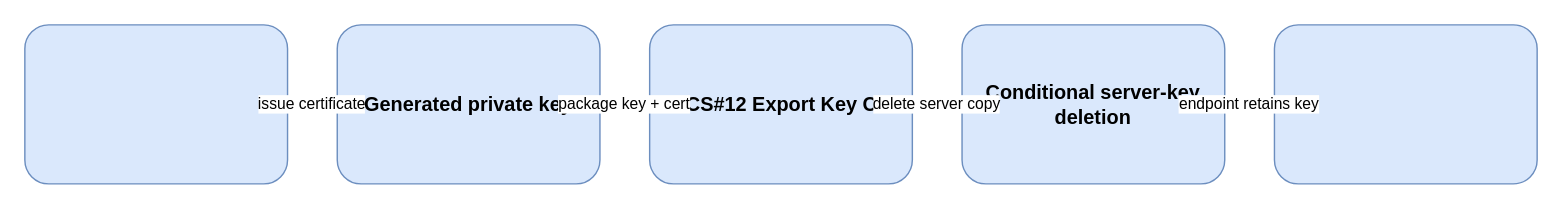
The diagram is 1562 pixels wide and 209 high, and some of its shapes have lost their labels. Here are the shapes that lost their labels. From the top down, the box of each, then its label:
(23, 23, 288, 184): FAC CA / user certificate
(1273, 23, 1537, 184): Endpoint certificate store
